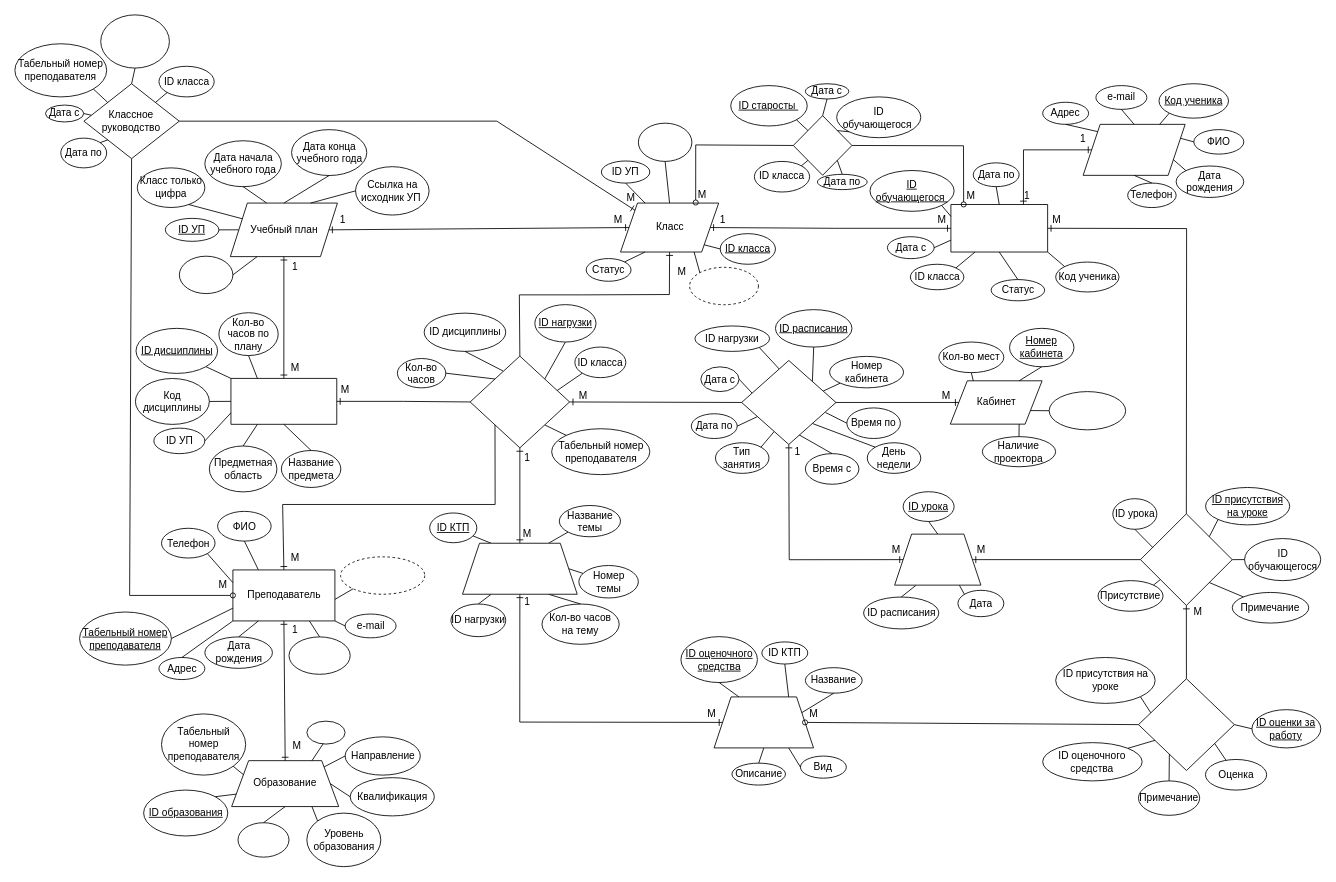
The diagram is 1336 pixels wide and 882 high, and some of its shapes have lost their labels. The centre of each missing label's shape, as x and y in pixels:
ID классного руководства: the point at 134,41
Год: the point at 325,732
Дисциплина: the point at 283,401
Календарно-тематический план: the point at 519,568
Кол-во обучающихся: the point at 723,285
Нагрузка: the point at 519,401
Номер диплома: the point at 263,839
Номер класса: the point at 665,141
Номер паспорта: the point at 319,655
Обучающийся: the point at 999,228
Общее кол-во часов нагрузки: the point at 382,575
Оценка за работу: the point at 1186,724
Оценочное средство: the point at 763,722
Присутствие на уроке: the point at 1186,559
Профиль кабинета: the point at 1087,410
Профиль класса: the point at 205,274
Расписание: the point at 788,402
Староста: the point at 822,145
Урок: the point at 937,559
Ученик: the point at 1133,149
